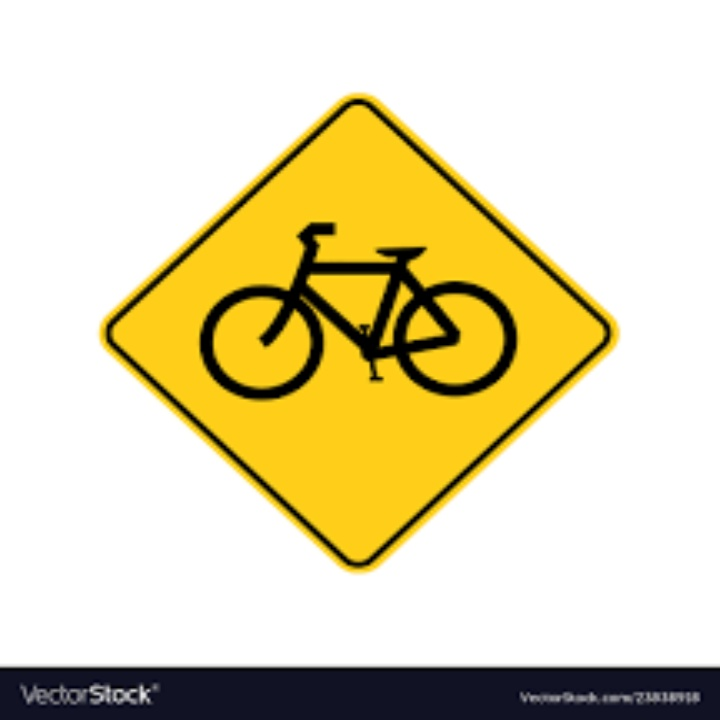bicycle: (197, 221, 521, 405)
